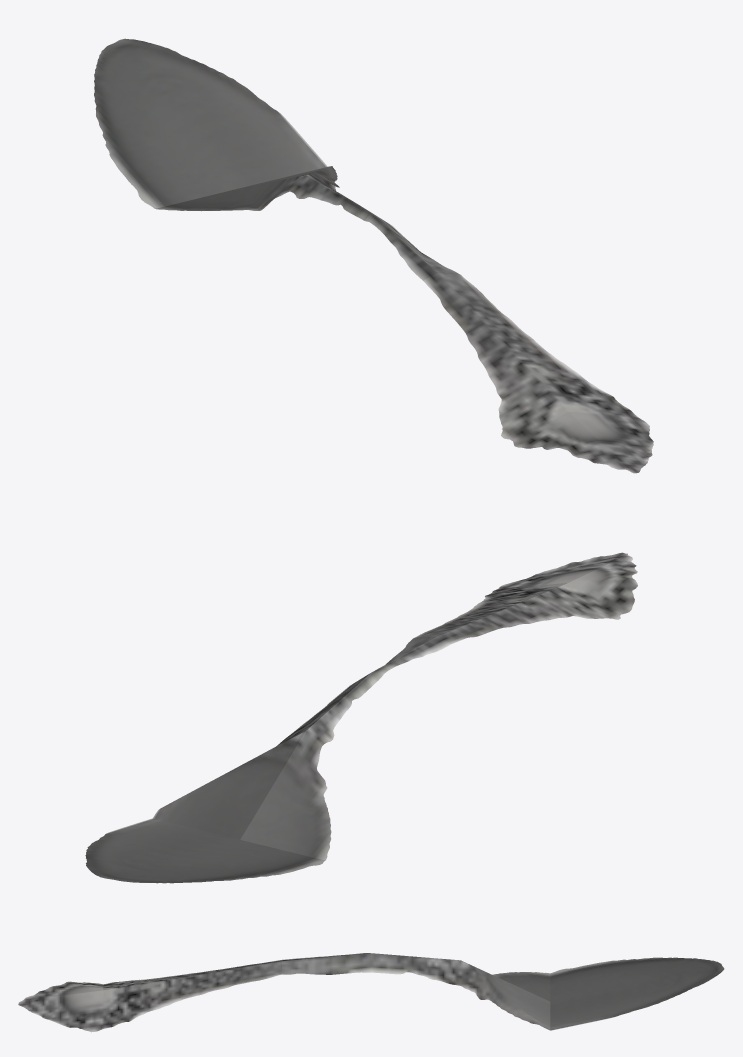
File: Spoon_ornate.fbx
3 views of the same model, one above another, from view 1: azimuth 30°, elevation 25°; view 2: azimuth 150°, elevation 25°; view 3: azimuth 270°, elevation 25° (orthographic). The views are drawn at different scales.
Visible parts, largest first — view 1: Spoon_ornate_LOD0; view 2: Spoon_ornate_LOD0; view 3: Spoon_ornate_LOD0.
Part boxes in pixels (bbox=[...]): Spoon_ornate_LOD0: bbox=[94, 38, 653, 473]; Spoon_ornate_LOD0: bbox=[85, 552, 637, 883]; Spoon_ornate_LOD0: bbox=[18, 953, 724, 1032].
Size of what is drawn, in the model's own units: 8.61 by 3.7 by 41.18.
